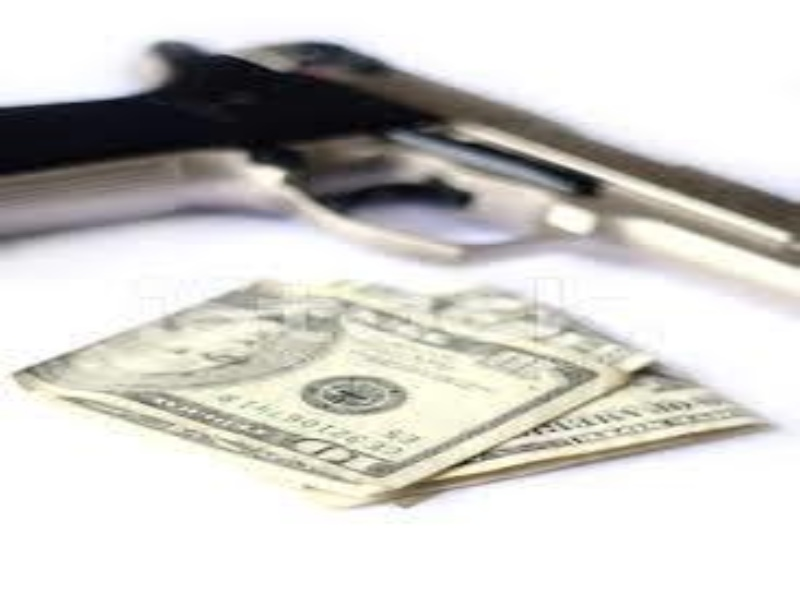cash: (12, 278, 777, 510)
weapon: (1, 40, 800, 289)
